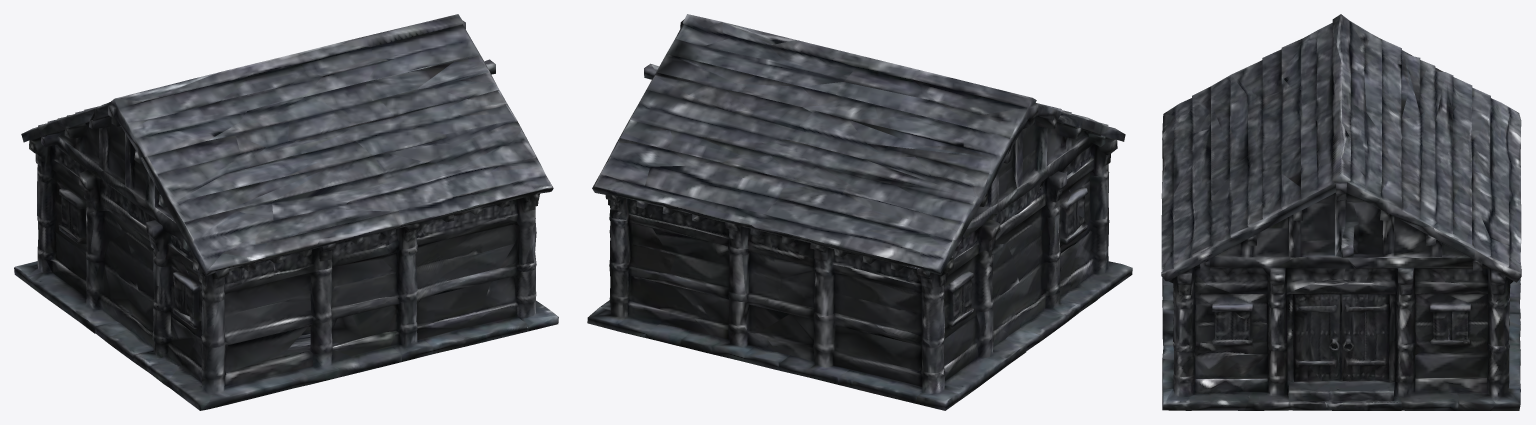
Rendered from storage_black.glb.
3 renders of one model, left to right at view 1: azimuth 30°, elevation 25°; view 2: azimuth 150°, elevation 25°; view 3: azimuth 270°, elevation 25°, orthographic. The views are drawn at different scales.
Parts seen in each view (by area): view 1: tripo_node_0fadbf42-06c6-4eaf-8a7a-b7ae30e58155; view 2: tripo_node_0fadbf42-06c6-4eaf-8a7a-b7ae30e58155; view 3: tripo_node_0fadbf42-06c6-4eaf-8a7a-b7ae30e58155.
Part boxes in pixels (bbox=[...]): tripo_node_0fadbf42-06c6-4eaf-8a7a-b7ae30e58155: bbox=[14, 14, 558, 410]; tripo_node_0fadbf42-06c6-4eaf-8a7a-b7ae30e58155: bbox=[587, 14, 1132, 410]; tripo_node_0fadbf42-06c6-4eaf-8a7a-b7ae30e58155: bbox=[1161, 14, 1521, 410].
Size of the model in its own units: 0.9788 by 0.5852 by 0.8188.
1 material, 1 textured.
